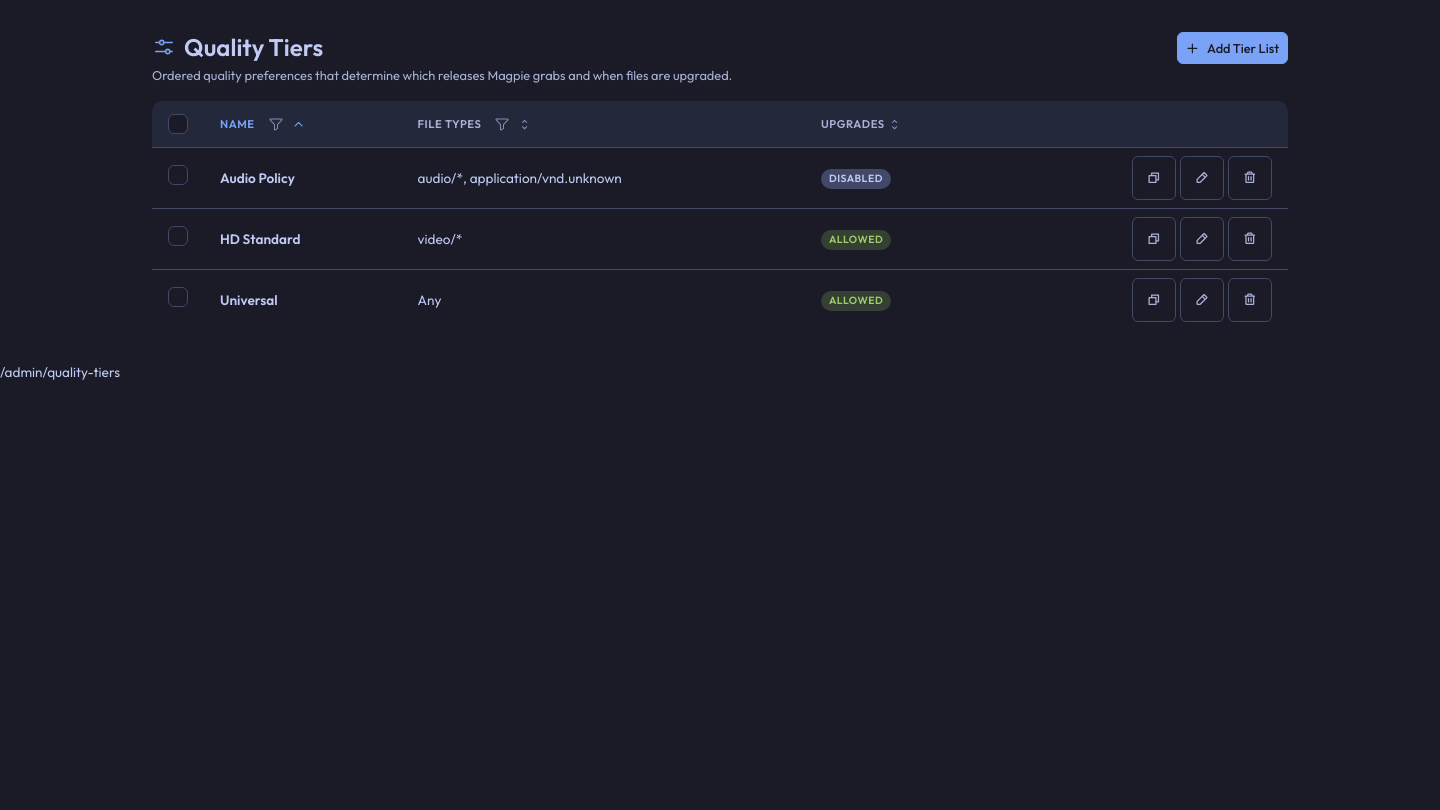
Test: QualityTiersPage › creates a normalized MIME-aware list and opens its detail page
The width and height of the screenshot is (1440, 810).
Expected: the row "HD Standard video/* Allowed" is shown, [152,209,1288,270]
Click the button "Add Tier List": (1233, 48) [1177,32,1288,64]
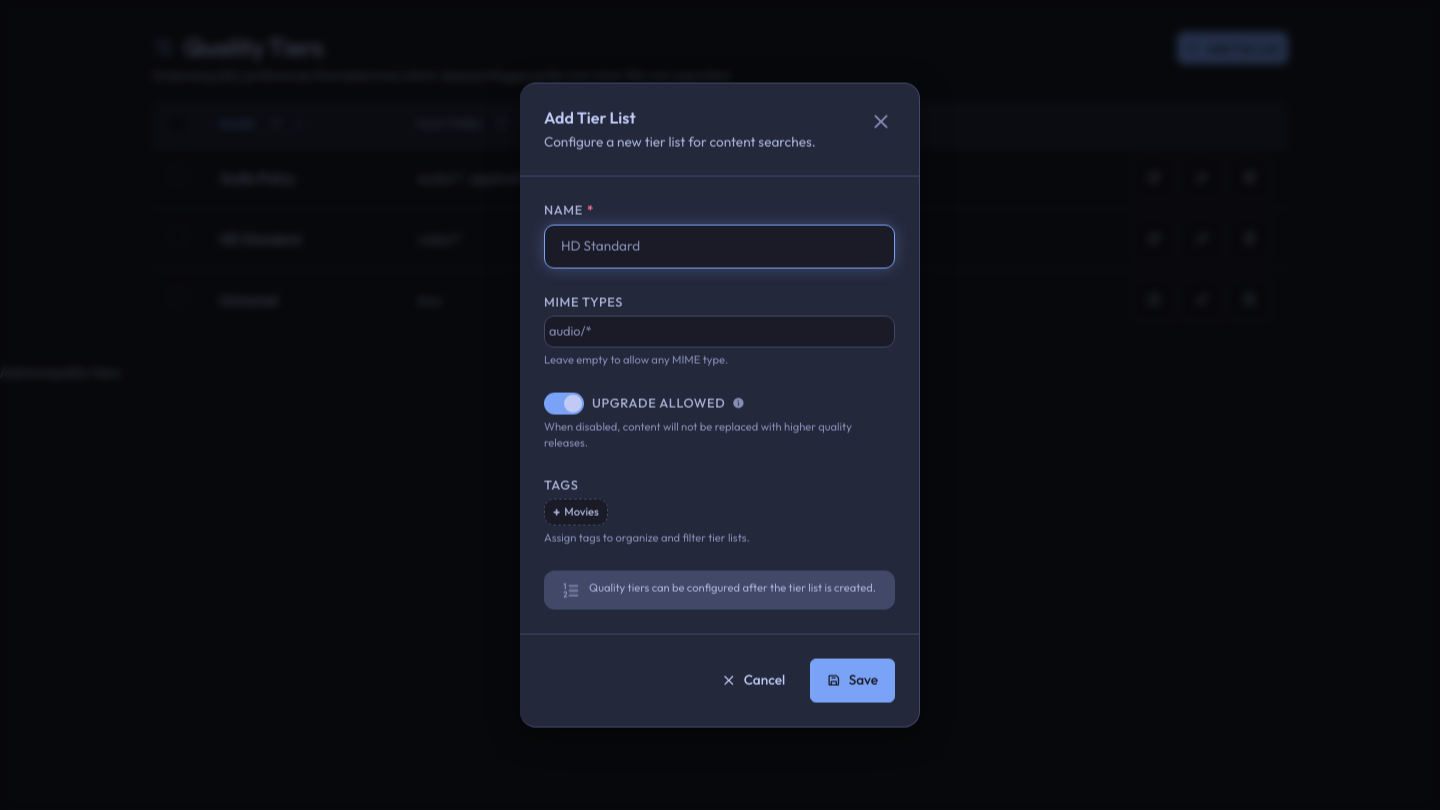
In the field labelled "Name *": (720, 246) [545,228,894,264], type "  Books  "
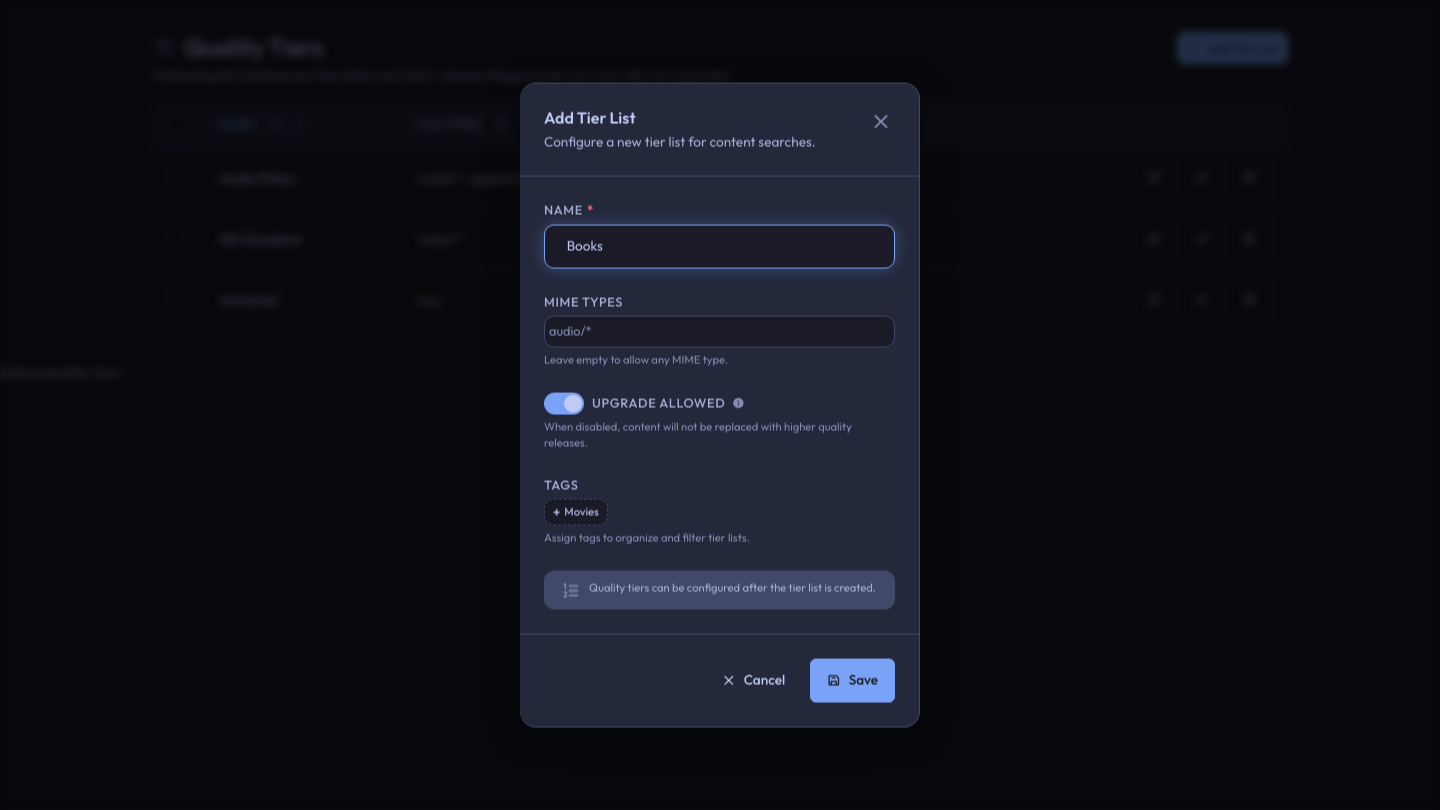
In the dropdown: (720, 331) [549,320,890,343], type " Application/EPUB+ZIP "
Then press Enter
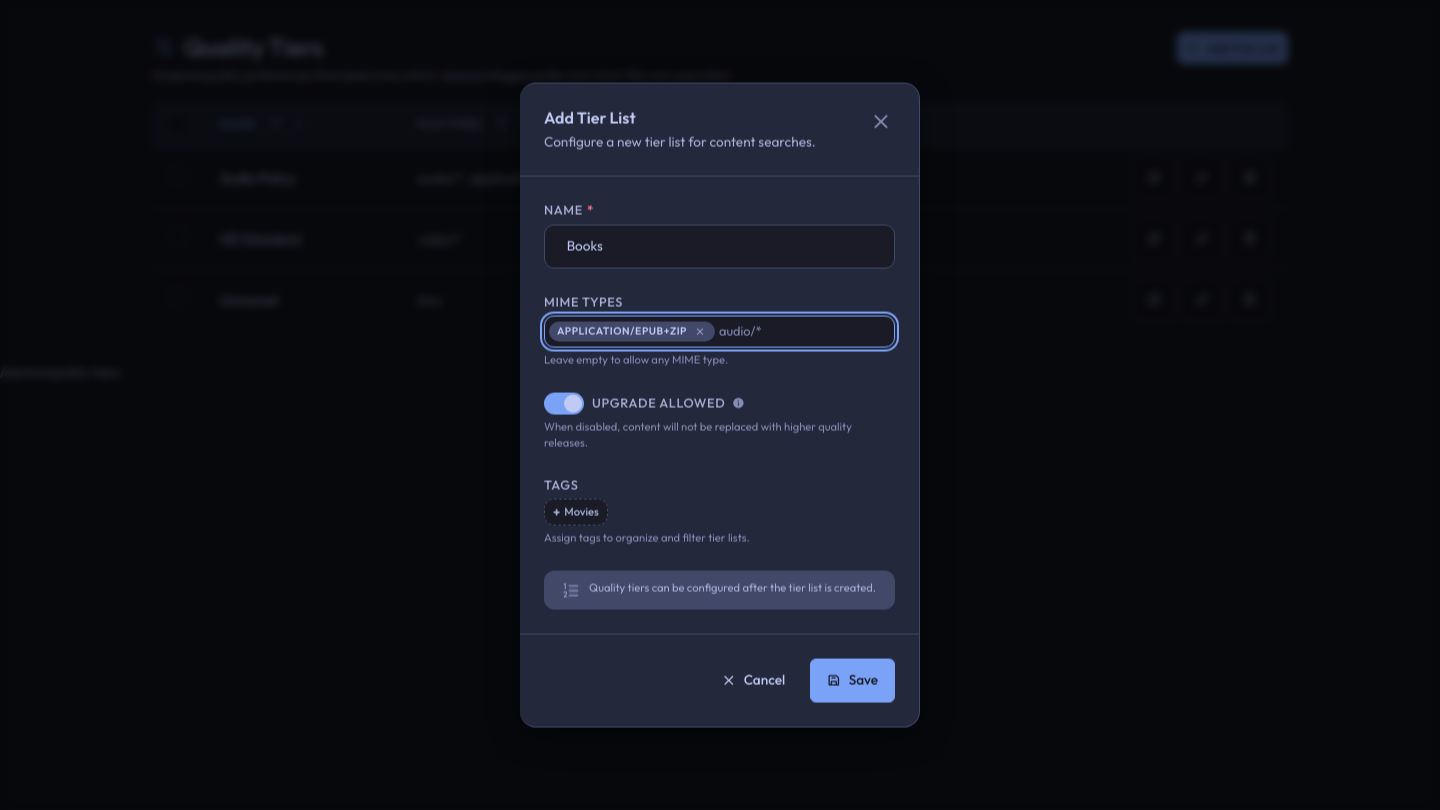
Click the button "Save": (853, 680) [810,658,895,702]
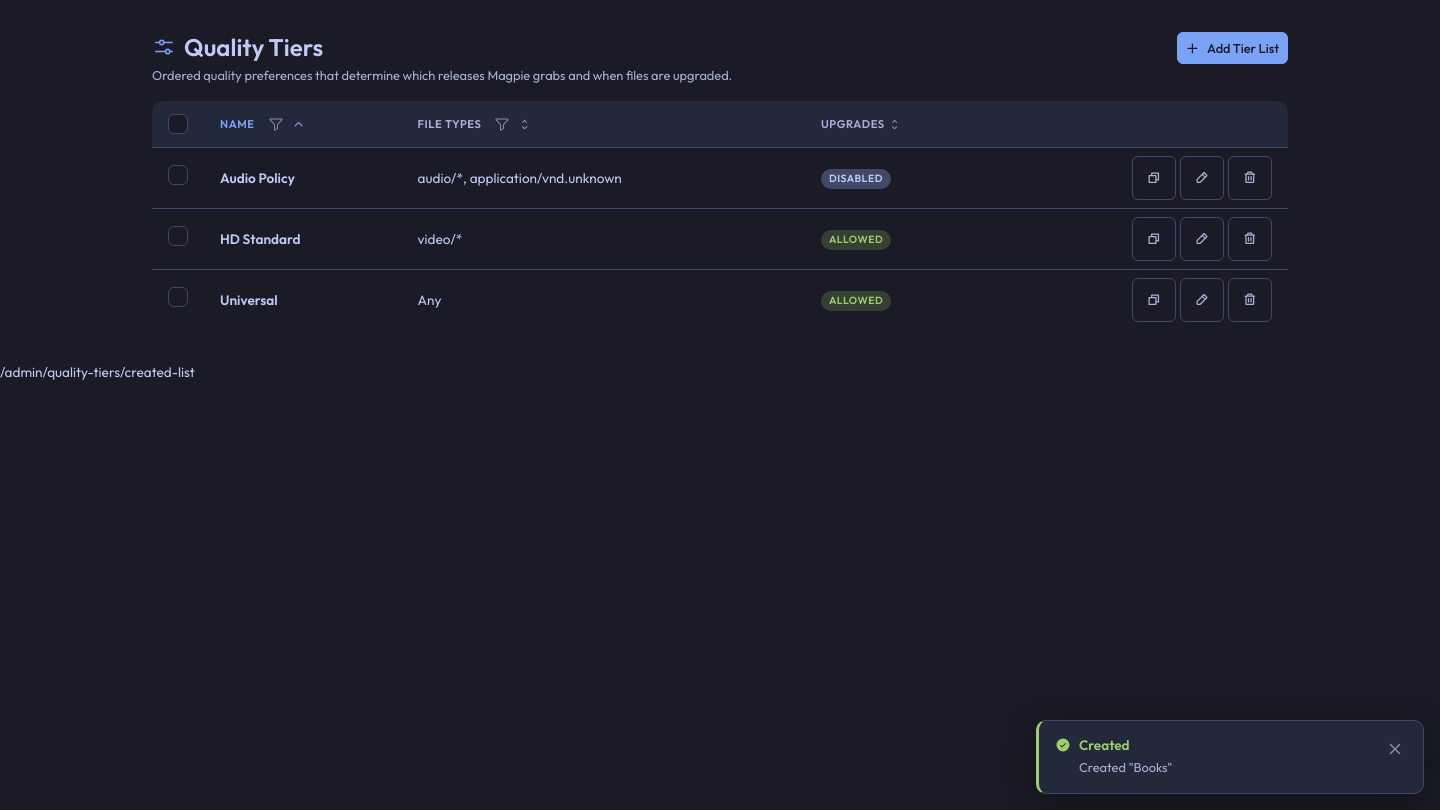
Expected: the text with test id "location" reads "/admin/quality-tiers/created-list", [0,363,195,381]
